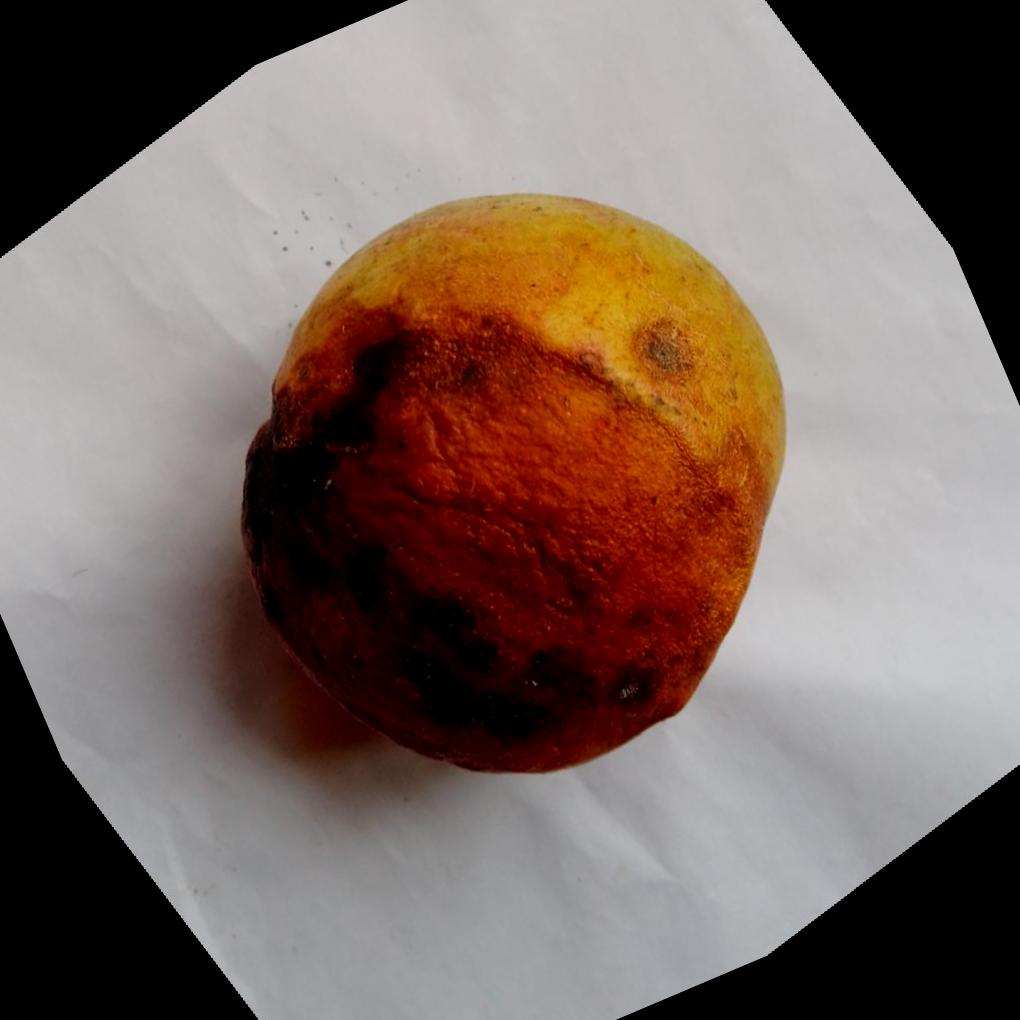FreshOrange: (238, 193, 790, 779)
